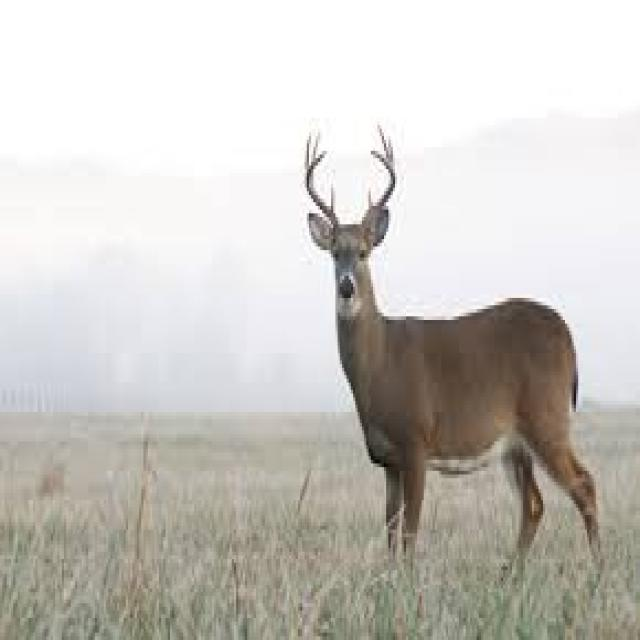Deer: (306, 121, 610, 577)
